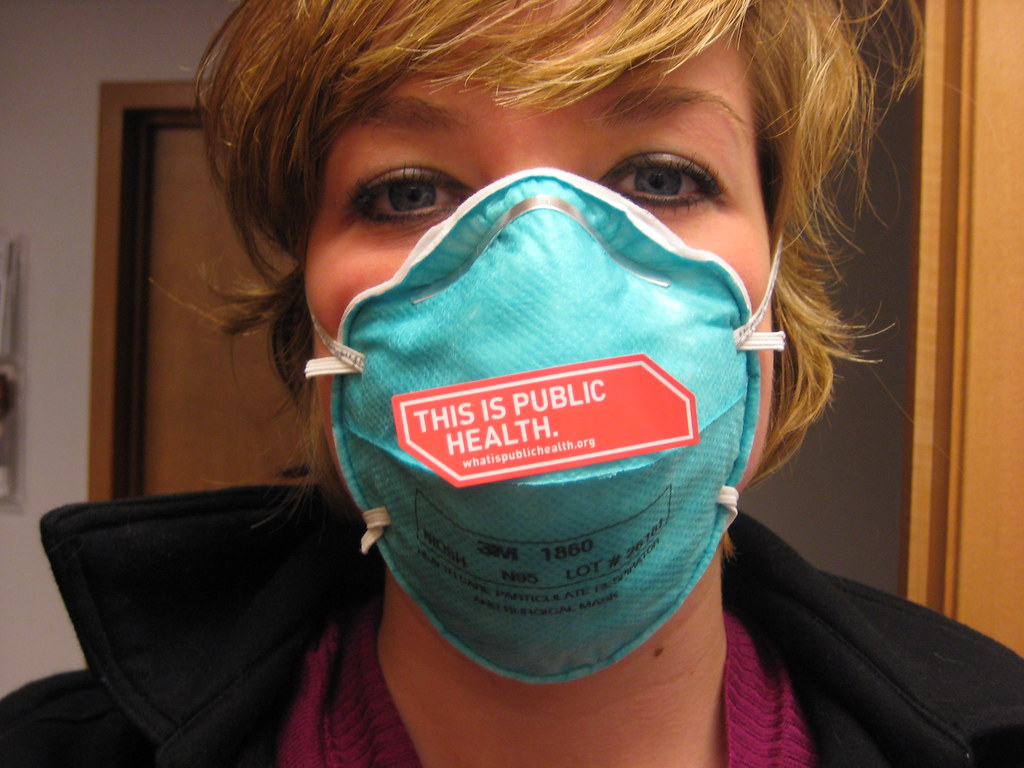n95: (303, 168, 783, 688)
